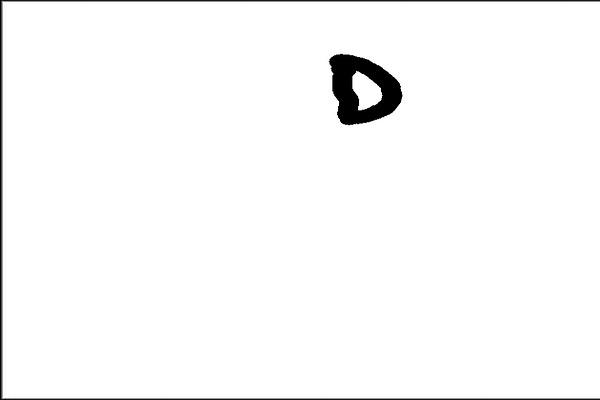D: (325, 51, 405, 127)
